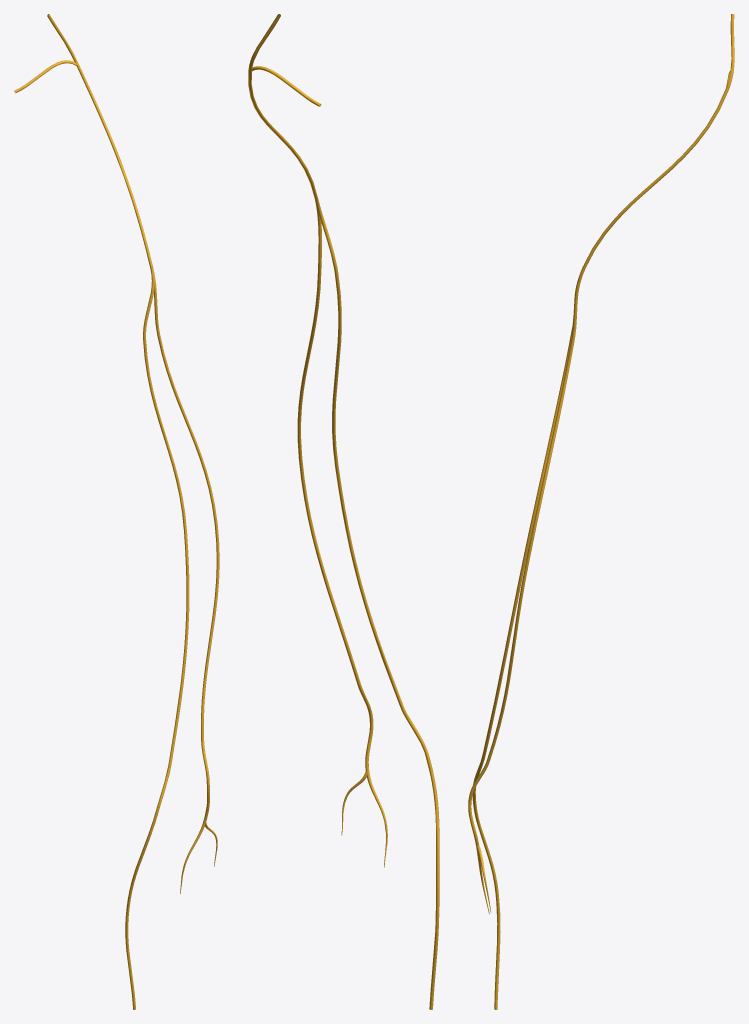
Rendered from nervoso-genitofemoral-nerve-l.glb.
3 views of the same model, side by side, from view 1: azimuth 30°, elevation 25°; view 2: azimuth 150°, elevation 25°; view 3: azimuth 270°, elevation 25° (orthographic). The views are drawn at different scales.
Parts seen in each view (by area): view 1: Genital branch of genitofemoral nerve.l, Femoral branch of genitofemoral nerve.l, Genitofemoral nerve.l; view 2: Genital branch of genitofemoral nerve.l, Femoral branch of genitofemoral nerve.l, Genitofemoral nerve.l; view 3: Femoral branch of genitofemoral nerve.l, Genital branch of genitofemoral nerve.l, Genitofemoral nerve.l.
Part boxes in pixels (x1,y1,x2,y2): Genital branch of genitofemoral nerve.l: (125,267,189,1009); Femoral branch of genitofemoral nerve.l: (150,268,219,893); Genitofemoral nerve.l: (14,14,152,268); Genital branch of genitofemoral nerve.l: (316,197,439,1009); Femoral branch of genitofemoral nerve.l: (297,199,387,867); Genitofemoral nerve.l: (248,14,321,199); Femoral branch of genitofemoral nerve.l: (468,268,584,914); Genital branch of genitofemoral nerve.l: (472,268,582,1009); Genitofemoral nerve.l: (582,14,734,268).
Size of the model in its own units: 0.0424 by 0.3343 by 0.0802.
